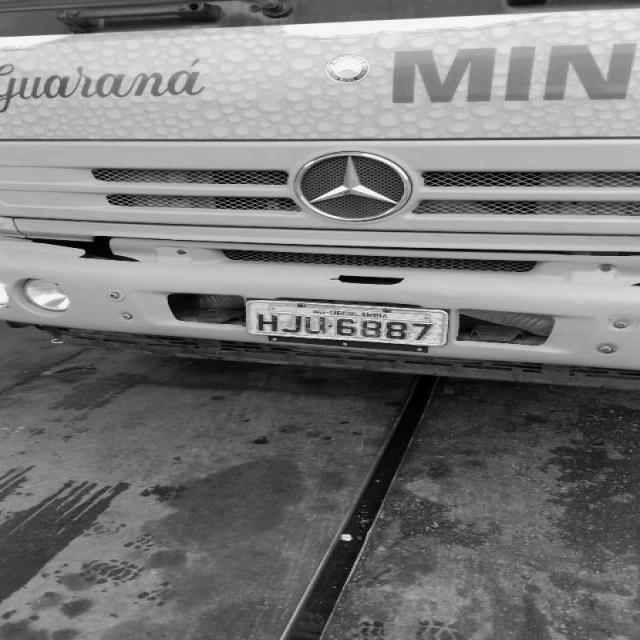placa_antiga: (248, 302, 448, 348)
